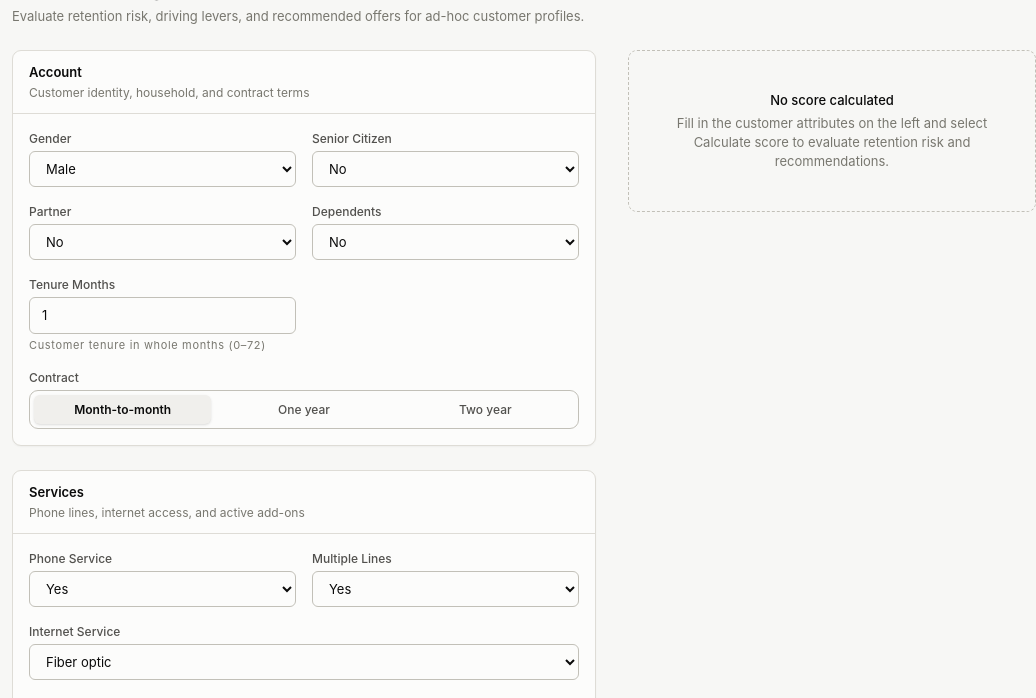
Test: ScorePage and Manual Scoring Form › Rule C — Total Charges Auto-calculation & Manual Override › "Reset to calculated value" recomputes and re-enables auto-calc
Replace the text in the number field labelled "Tenure Months" with "5" at (162, 316), box [29,297,296,334]
(page scrolled)
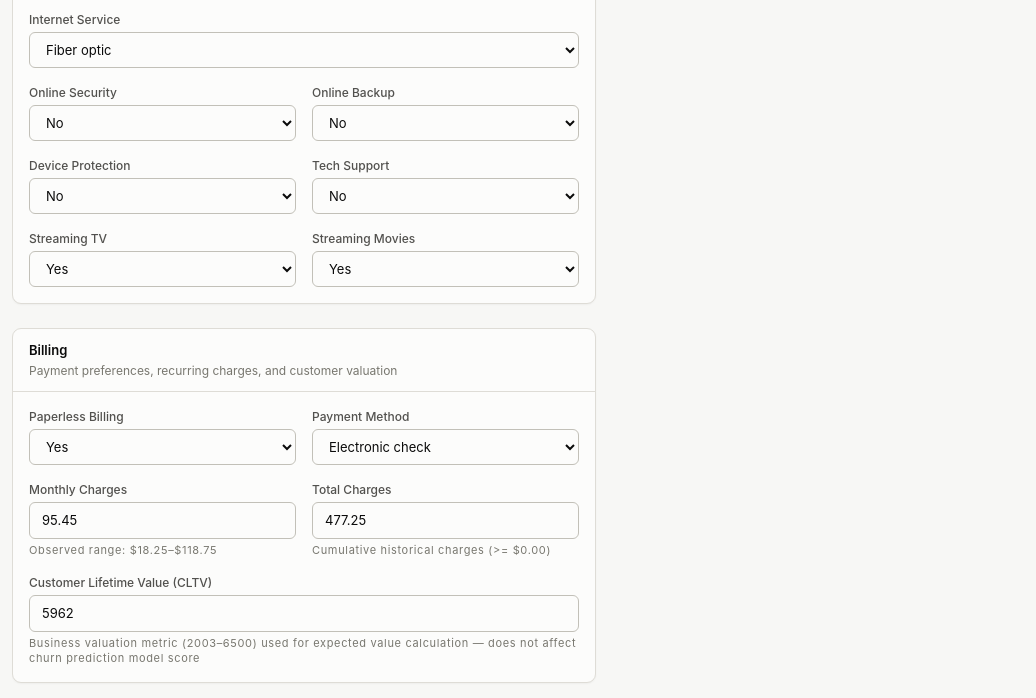
Replace the text in the number field labelled "Monthly Charges" with "80" at (162, 520), box [29,502,296,539]
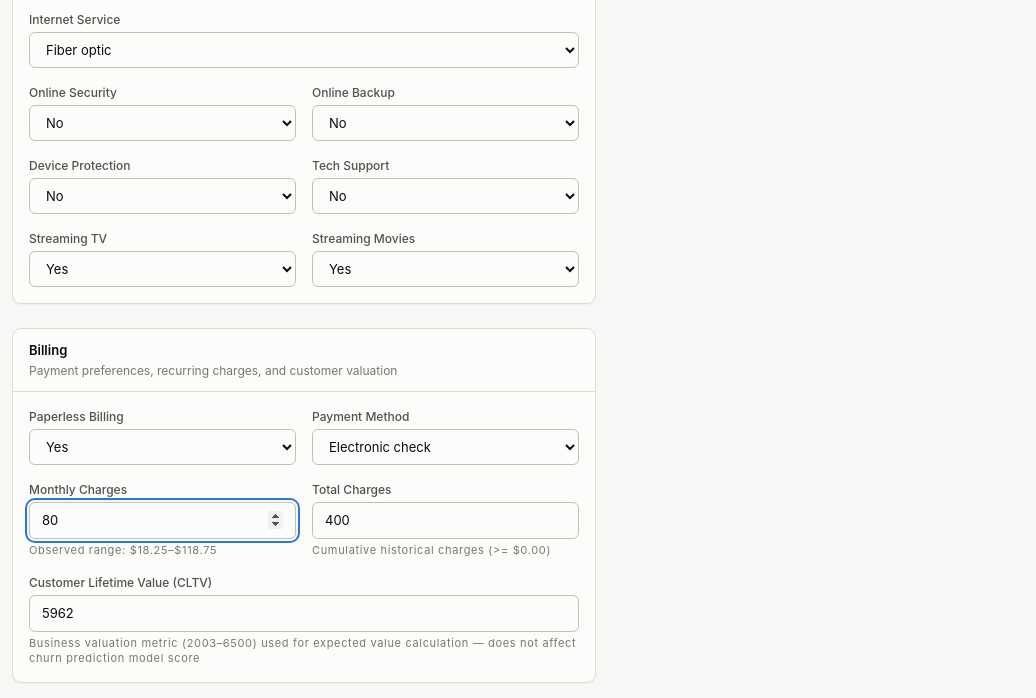
Manually edit Total Charges
Replace the text in the number field labelled "Total Charges" with "999" at (446, 520), box [312,502,579,539]
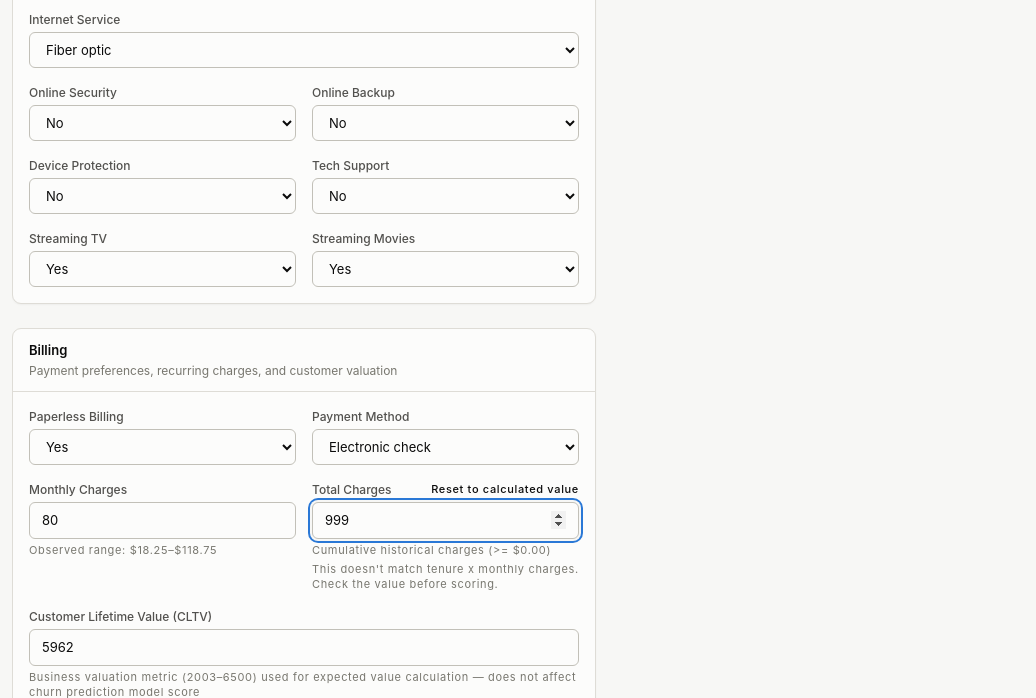
Result: the button "Reset to calculated value" is shown
Click the button "Reset to calculated value" at (505, 490), box [431,482,579,497]
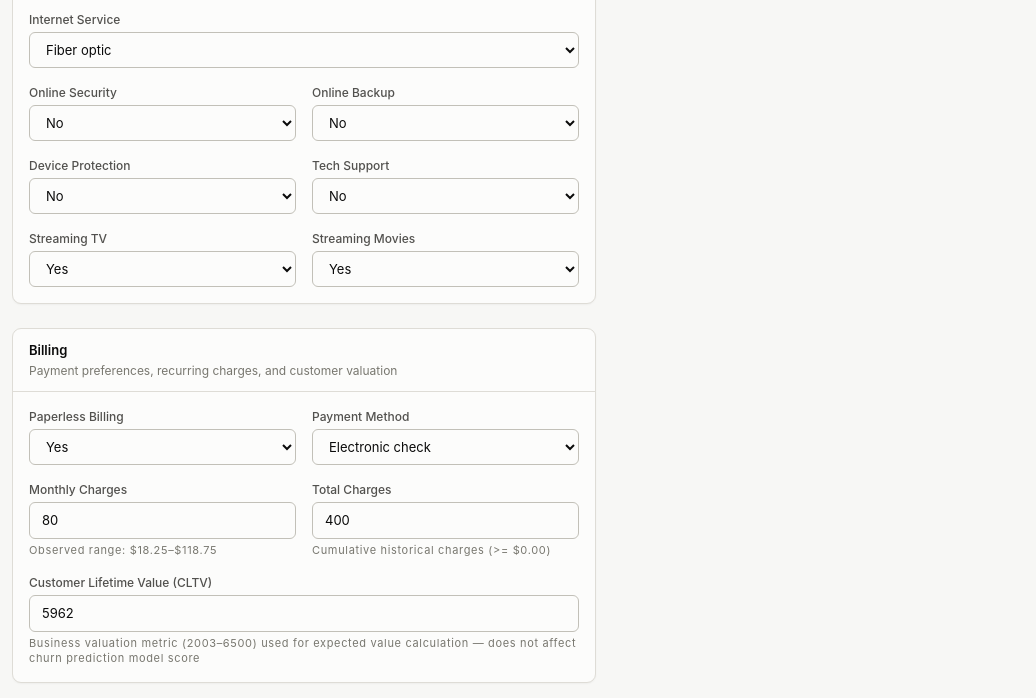
Result: the number field labelled "Total Charges" holds "400" at [312,502,579,539]
Result: the button "Reset to calculated value" is gone
Subsequent change should now auto-calculate again
Replace the text in the number field labelled "Monthly Charges" with "90" at (162, 520), box [29,502,296,539]
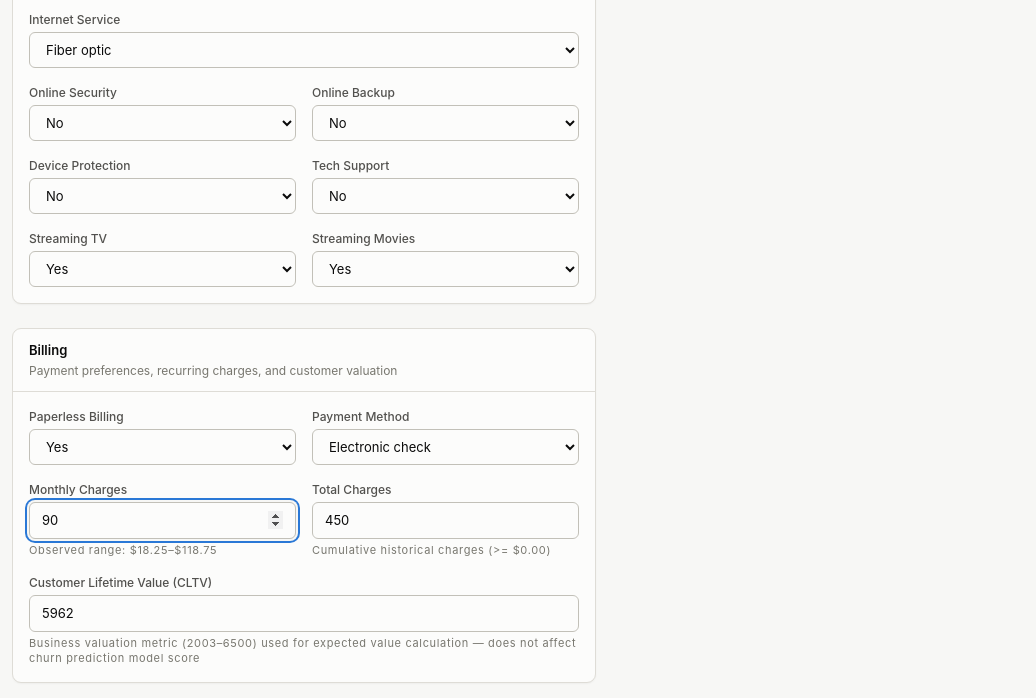
Result: the number field labelled "Total Charges" holds "450" at [312,502,579,539]
